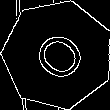O_SE: (24, 22, 91, 87)
